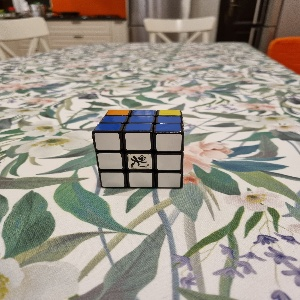cube: (93, 109, 185, 188)
